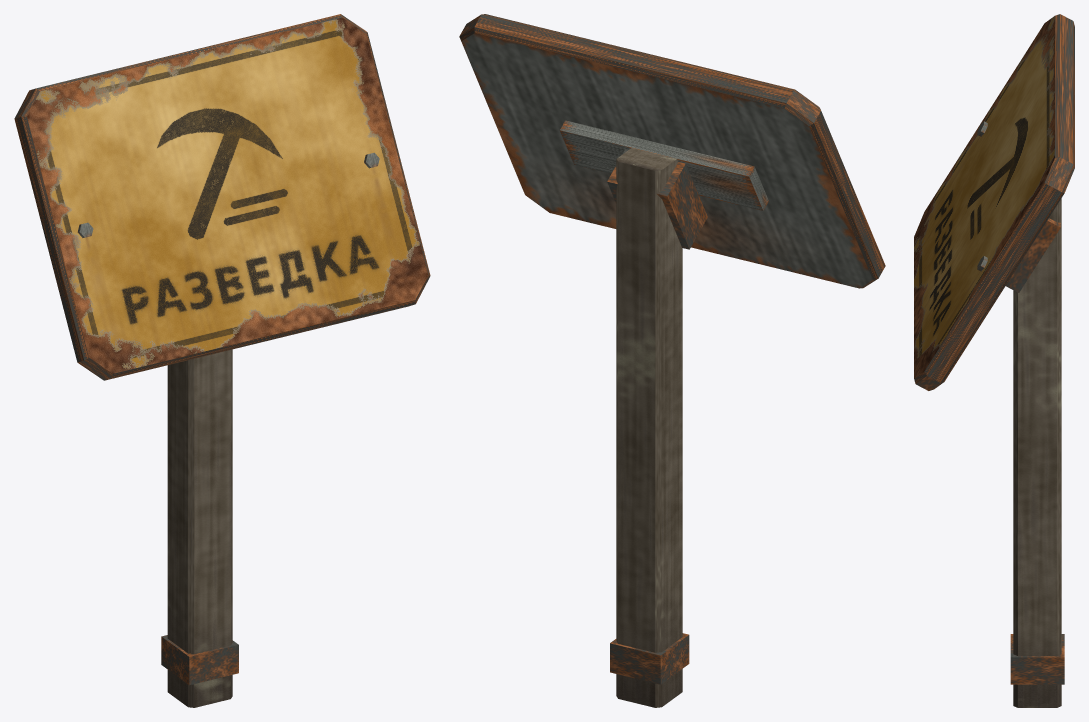
The model's file is prospect_marker.obj.
3 renders of one model, left to right at view 1: azimuth 30°, elevation 25°; view 2: azimuth 150°, elevation 25°; view 3: azimuth 270°, elevation 25°, orthographic. The views are drawn at different scales.
Visible parts, largest first — view 1: ProspectMarker; view 2: ProspectMarker; view 3: ProspectMarker.
Part boxes in pixels (box(x1,y1,x2,y2)): ProspectMarker: box(14, 14, 430, 707); ProspectMarker: box(459, 14, 885, 707); ProspectMarker: box(914, 14, 1074, 707).
Bounding box in the file's own units: 0.6 × 1.05 × 0.2502.
Materials: 1 (1 with a texture image).
